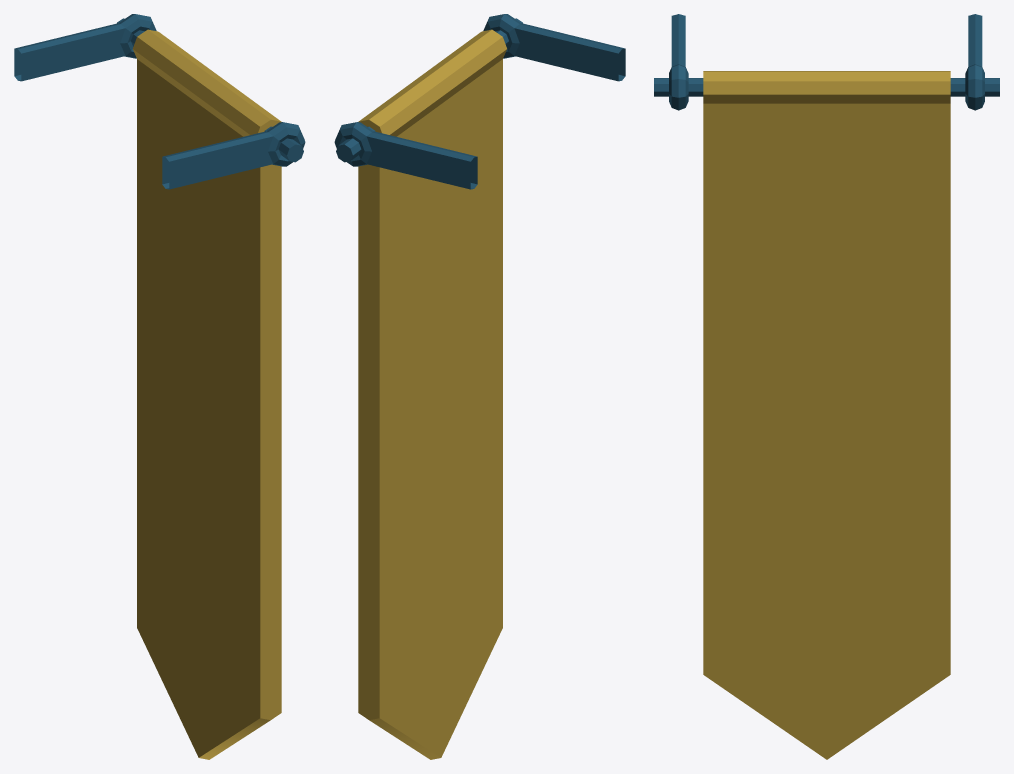
Rendered from flag01.fbx.
3 renders of one model, left to right at view 1: azimuth 30°, elevation 25°; view 2: azimuth 150°, elevation 25°; view 3: azimuth 270°, elevation 25°, orthographic.
Parts seen in each view (by area): view 1: base, holder_left, holder_right, bar; view 2: base, holder_right, holder_left, bar; view 3: base, holder_left, holder_right, bar.
Boxes of the visible parts, box(x1,y1,x2,y2) form: base: box(133, 29, 281, 759); holder_left: box(162, 122, 305, 189); holder_right: box(14, 14, 156, 81); bar: box(117, 18, 303, 162); base: box(358, 29, 506, 759); holder_right: box(334, 122, 477, 189); holder_left: box(483, 14, 625, 81); bar: box(336, 18, 522, 162); base: box(703, 71, 950, 759); holder_left: box(669, 14, 688, 110); holder_right: box(965, 14, 984, 110); bar: box(654, 78, 999, 96).
Bounding box in the file's own units: 32.56 × 155 × 70.
